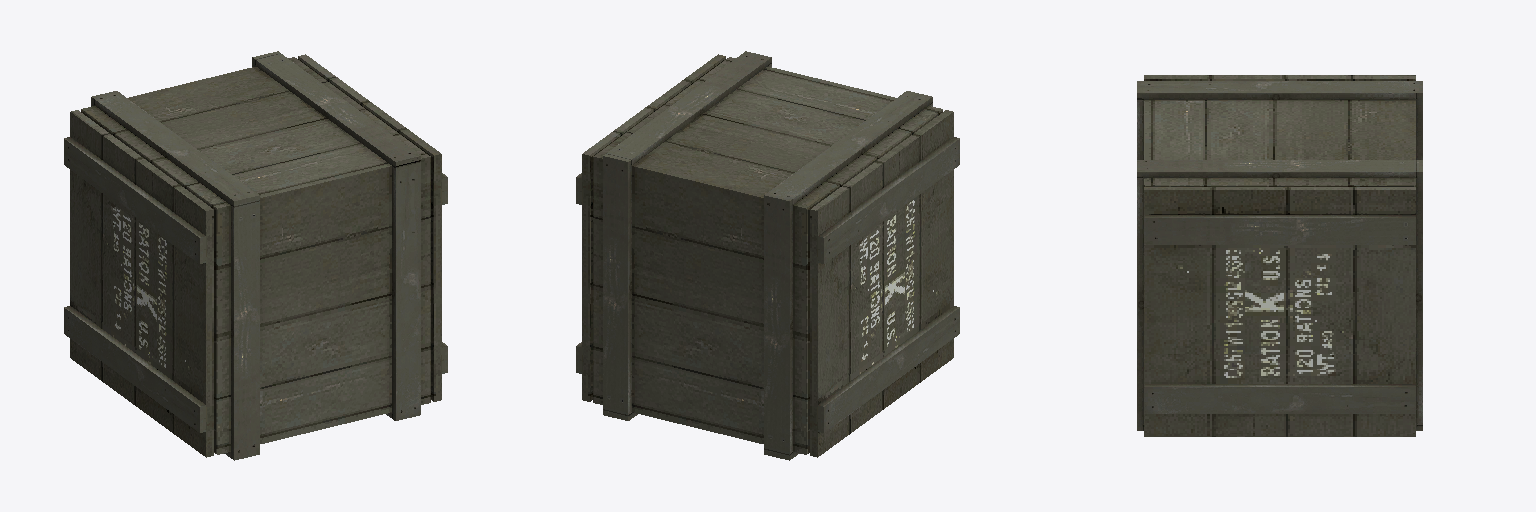
3 renders of one model, left to right at view 1: azimuth 30°, elevation 25°; view 2: azimuth 150°, elevation 25°; view 3: azimuth 270°, elevation 25°, orthographic.
Parts seen in each view (by area): view 1: Body.static_crate_40_reference.mesh_0; view 2: Body.static_crate_40_reference.mesh_0; view 3: Body.static_crate_40_reference.mesh_0.
Boxes of the visible parts, x1=… form: Body.static_crate_40_reference.mesh_0: x1=64, y1=51, x2=447, y2=460; Body.static_crate_40_reference.mesh_0: x1=576, y1=51, x2=959, y2=460; Body.static_crate_40_reference.mesh_0: x1=1137, y1=75, x2=1422, y2=436.
Bounding box in the file's own units: 40.12 × 39.98 × 39.98.
1 materials, 1 textured.